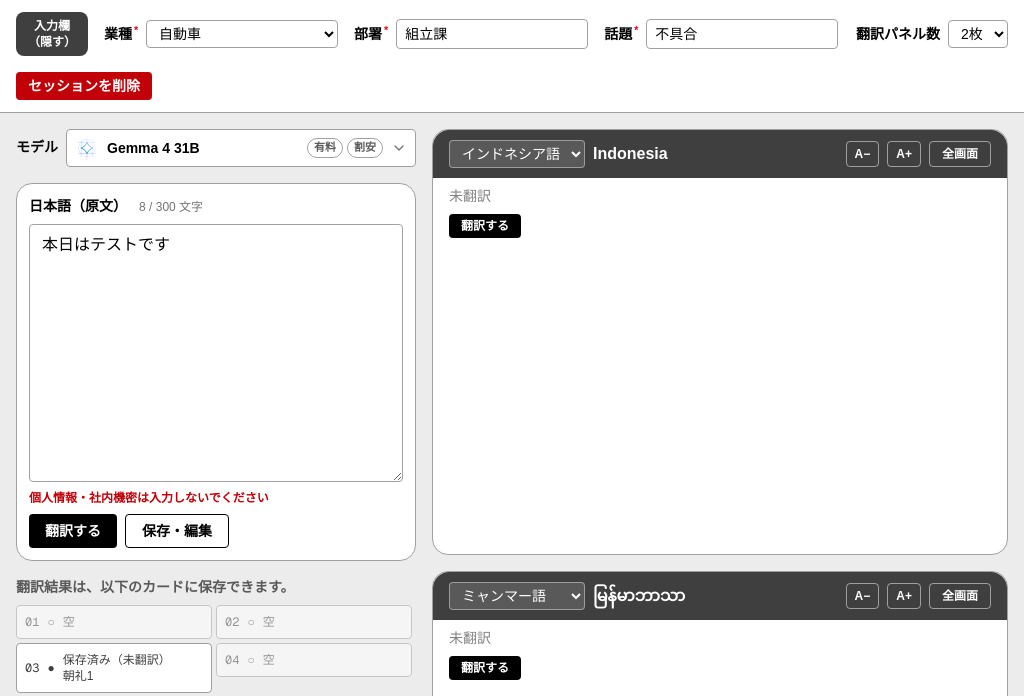
Test: HomePage session behaviour › display mode: hiding the input column leaves a card rail that still loads cards
The width and height of the screenshot is (1024, 696).
Expected: the text box showing "本日はテストです" is shown, [29,224,403,482]
Click the button with aria-label "入力欄を隠す": (52, 34) [16,12,88,56]
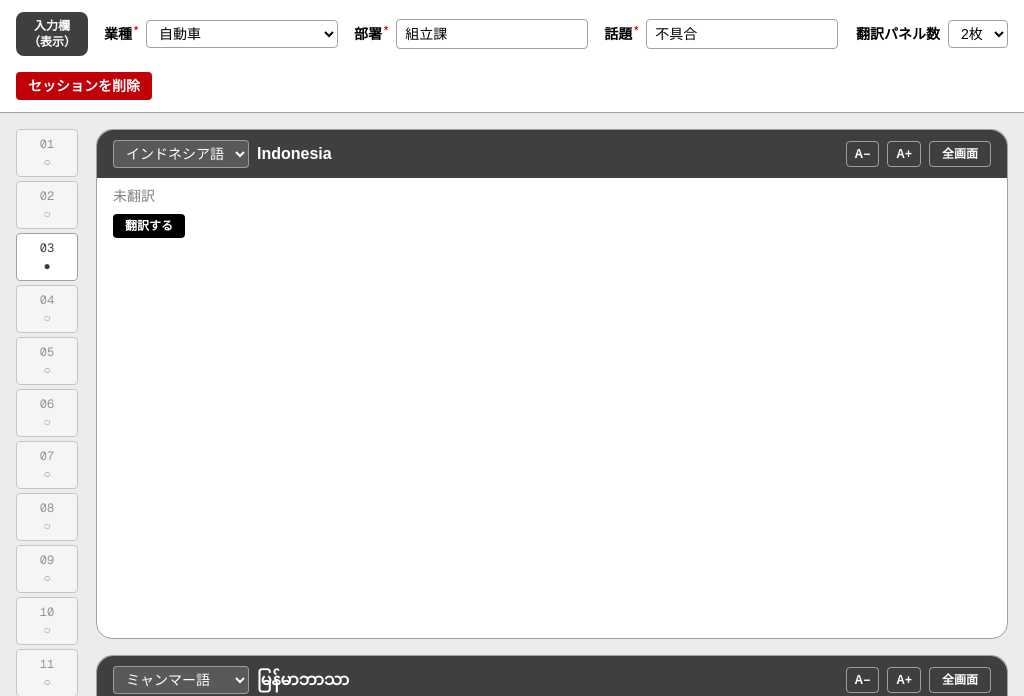
Expected: the field showing "本日はテストです" is not shown
Expected: the text "モデル" is gone
Expected: the button with aria-label "入力欄を表示" is shown, [16,12,88,56]
Click the button "03 ●": (47, 257) [16,233,78,281]
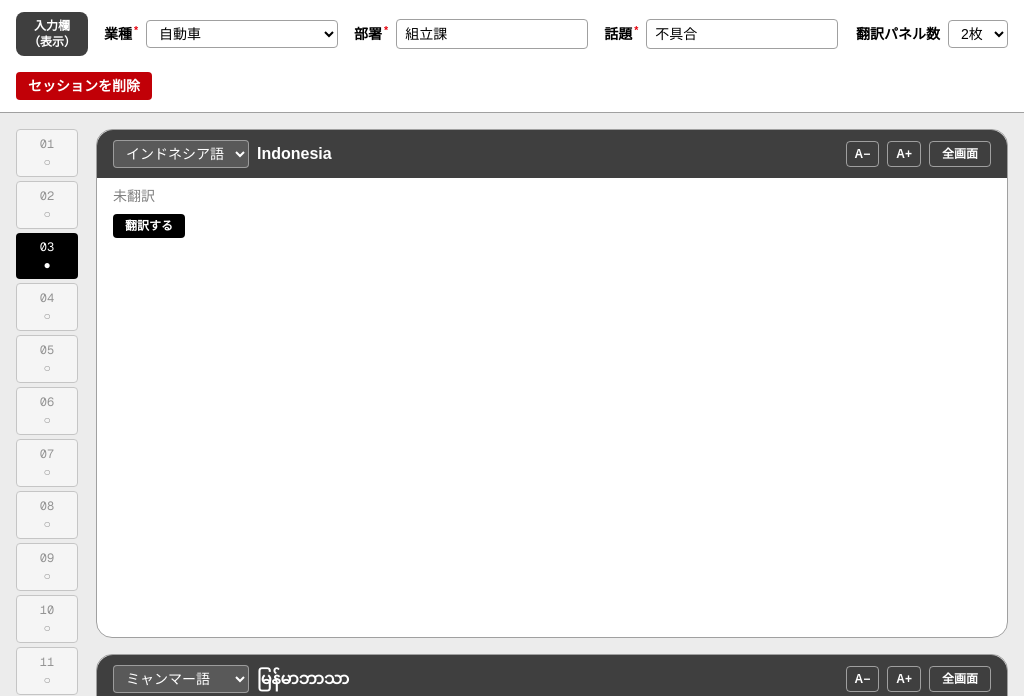
Expected: the button "03 ●" is marked as current, [16,233,78,279]
Note: Showing the column again restores the full editor.
Click the button with aria-label "入力欄を表示": (52, 34) [16,12,88,56]
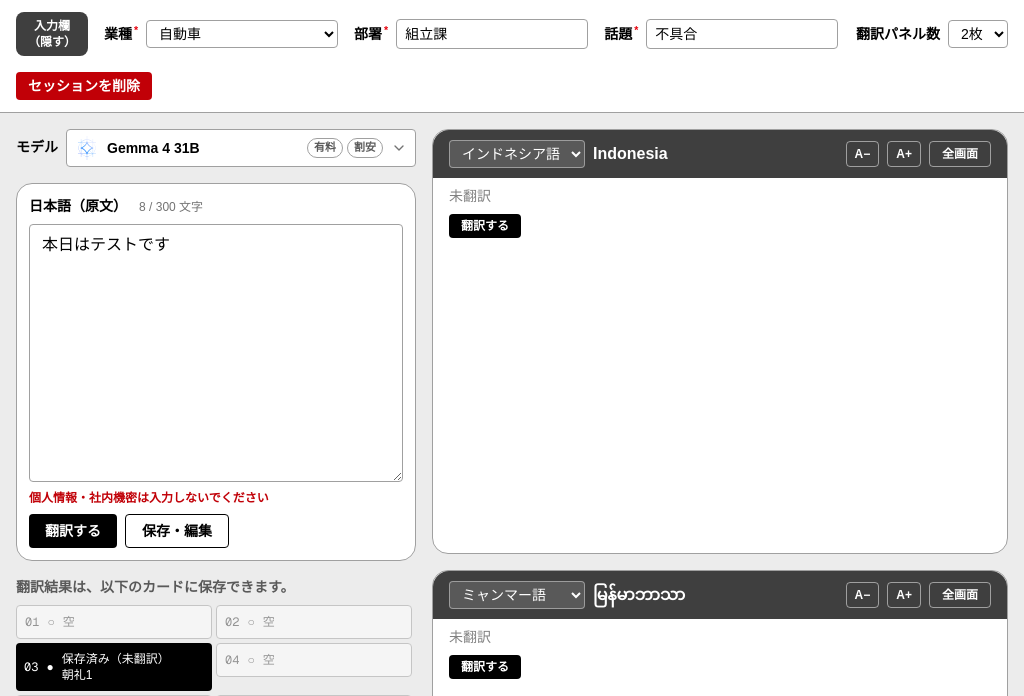
Expected: the text box showing "本日はテストです" is shown, [29,224,403,482]
Expected: the text "朝礼1" is shown, [62,668,92,682]
